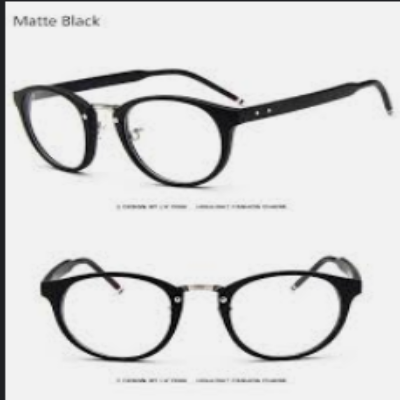glasses: (12, 67, 396, 194), (37, 251, 368, 370)
